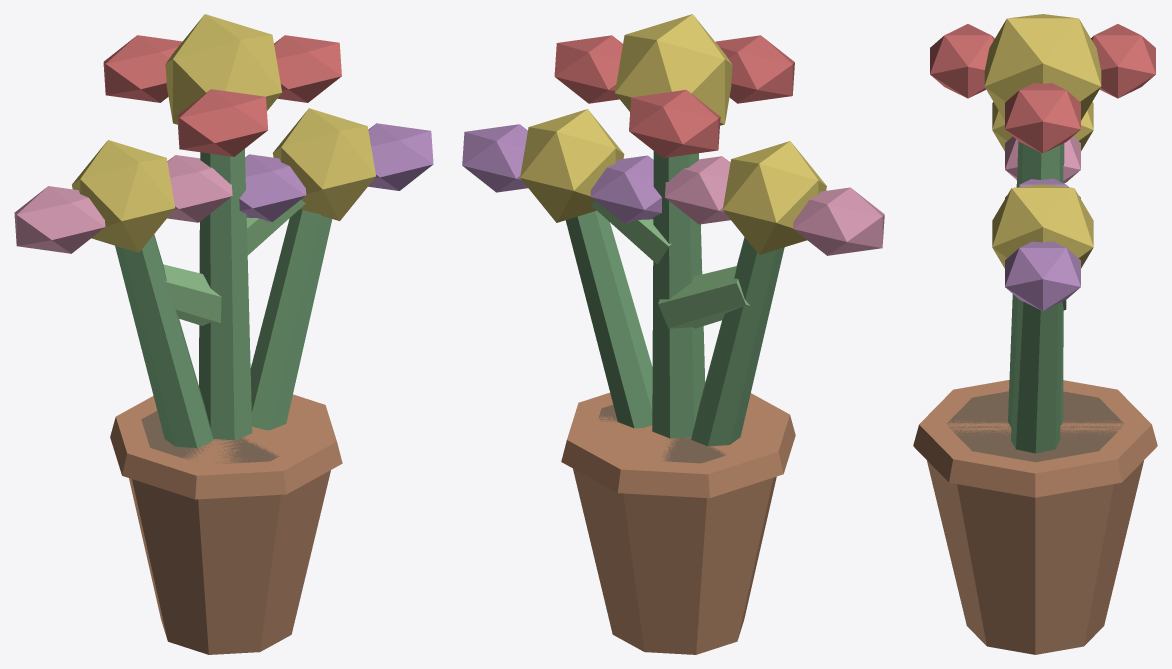
The picture shows the model from 3 angles, left to right: view 1: azimuth 30°, elevation 25°; view 2: azimuth 150°, elevation 25°; view 3: azimuth 270°, elevation 25°; orthographic projection.
Visible parts, largest first — view 1: part0, part1, part3, part5, part4, part8, part12, part15, part11, part14, part10, part9 (+6 smaller); view 2: part0, part1, part3, part5, part4, part8, part12, part15, part10, part14, part11, part9 (+6 smaller); view 3: part0, part1, part8, part5, part2, part15, part9, part16, part10, part11, part3, part13 (+1 smaller).
Part boxes in pixels (x1,y1,x2,y2): part0: [129, 470, 330, 654]; part1: [110, 394, 342, 499]; part3: [199, 149, 252, 440]; part5: [250, 209, 332, 430]; part4: [115, 234, 213, 447]; part8: [165, 14, 281, 124]; part12: [72, 140, 174, 252]; part15: [272, 108, 375, 221]; part11: [177, 89, 267, 156]; part14: [14, 186, 105, 253]; part10: [103, 35, 182, 102]; part9: [274, 35, 341, 102]; part0: [573, 468, 776, 654]; part1: [561, 392, 795, 498]; part3: [652, 151, 705, 438]; part5: [565, 210, 652, 428]; part4: [691, 237, 784, 446]; part8: [615, 14, 732, 125]; part12: [722, 141, 826, 254]; part15: [520, 109, 624, 222]; part10: [629, 89, 720, 157]; part14: [793, 187, 884, 255]; part11: [715, 35, 794, 103]; part9: [554, 35, 622, 103]; part0: [927, 460, 1143, 654]; part1: [913, 380, 1157, 497]; part8: [984, 14, 1101, 120]; part5: [1011, 299, 1062, 453]; part2: [947, 391, 1124, 462]; part15: [992, 184, 1093, 268]; part9: [1005, 83, 1080, 153]; part16: [1005, 241, 1080, 310]; part10: [1091, 24, 1155, 98]; part11: [930, 24, 994, 98]; part3: [1008, 141, 1064, 427]; part13: [1005, 136, 1080, 183].
Bounding box in the file's own units: 3.26 × 4.49 × 1.64.
